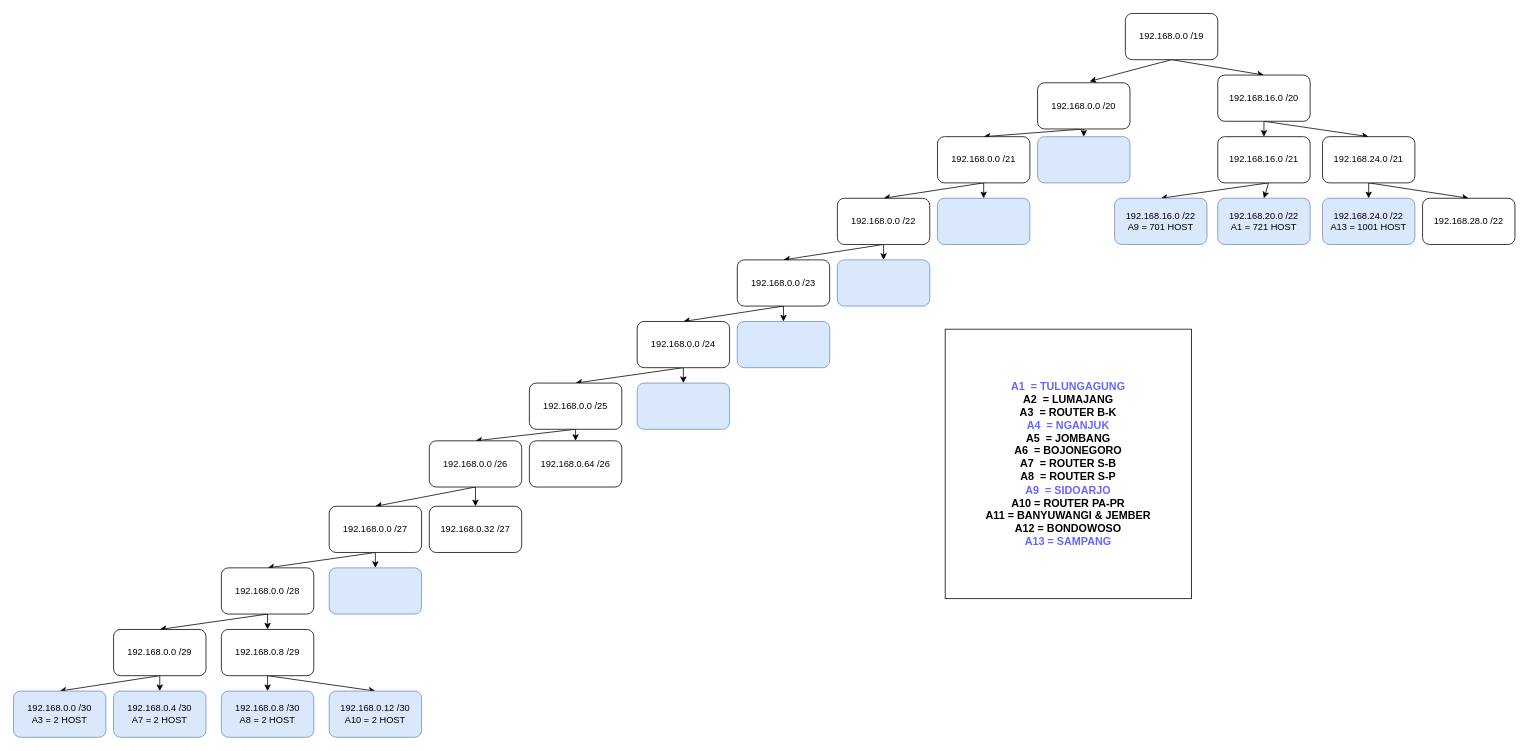
This 1528x751 diagram has some shape labels left out. Here are the shapes that lost their labels. From the top down, the box of each, then its label:
(1037, 136, 1130, 183): 192.168.8.0 /21 A11 = 2021 HOST
(937, 198, 1030, 244): 192.168.4.0 /22 A4 = 521 HOST
(837, 259, 930, 306): 192.168.2.0 /23 A5 = 501 HOST
(737, 321, 830, 368): 192.168.1.0 /24 A2 = 251 HOST
(636, 382, 730, 429): 192.168.0.128 /25 A12 = 101 HOST
(328, 567, 422, 614): 192.168.0.16 /28 A6 = 13 HOST
